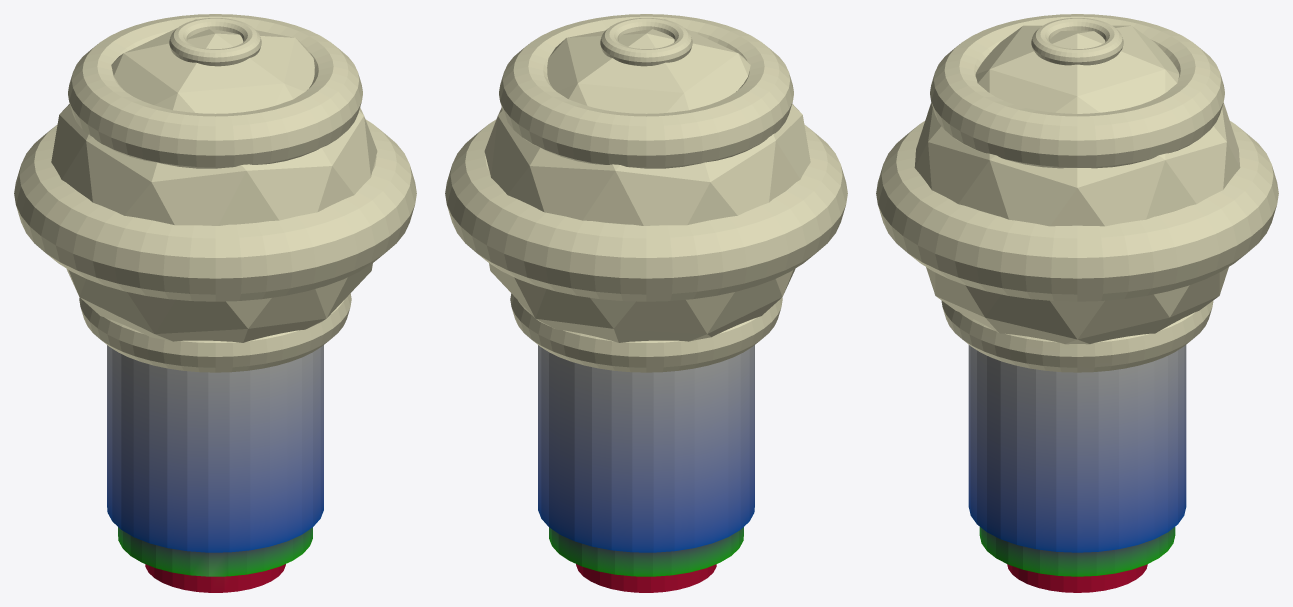
Rendered from Light.obj.
3 views of the same model, side by side, from view 1: azimuth 30°, elevation 25°; view 2: azimuth 150°, elevation 25°; view 3: azimuth 270°, elevation 25° (orthographic).
Parts seen in each view (by area): view 1: Light_Bulb; view 2: Light_Bulb; view 3: Light_Bulb.
Boxes of the visible parts, <box> form: Light_Bulb: <box>14,14,416,592</box>; Light_Bulb: <box>445,14,847,592</box>; Light_Bulb: <box>876,14,1278,592</box>.
Size of the model in its own units: 2.29 by 3.33 by 2.29.
